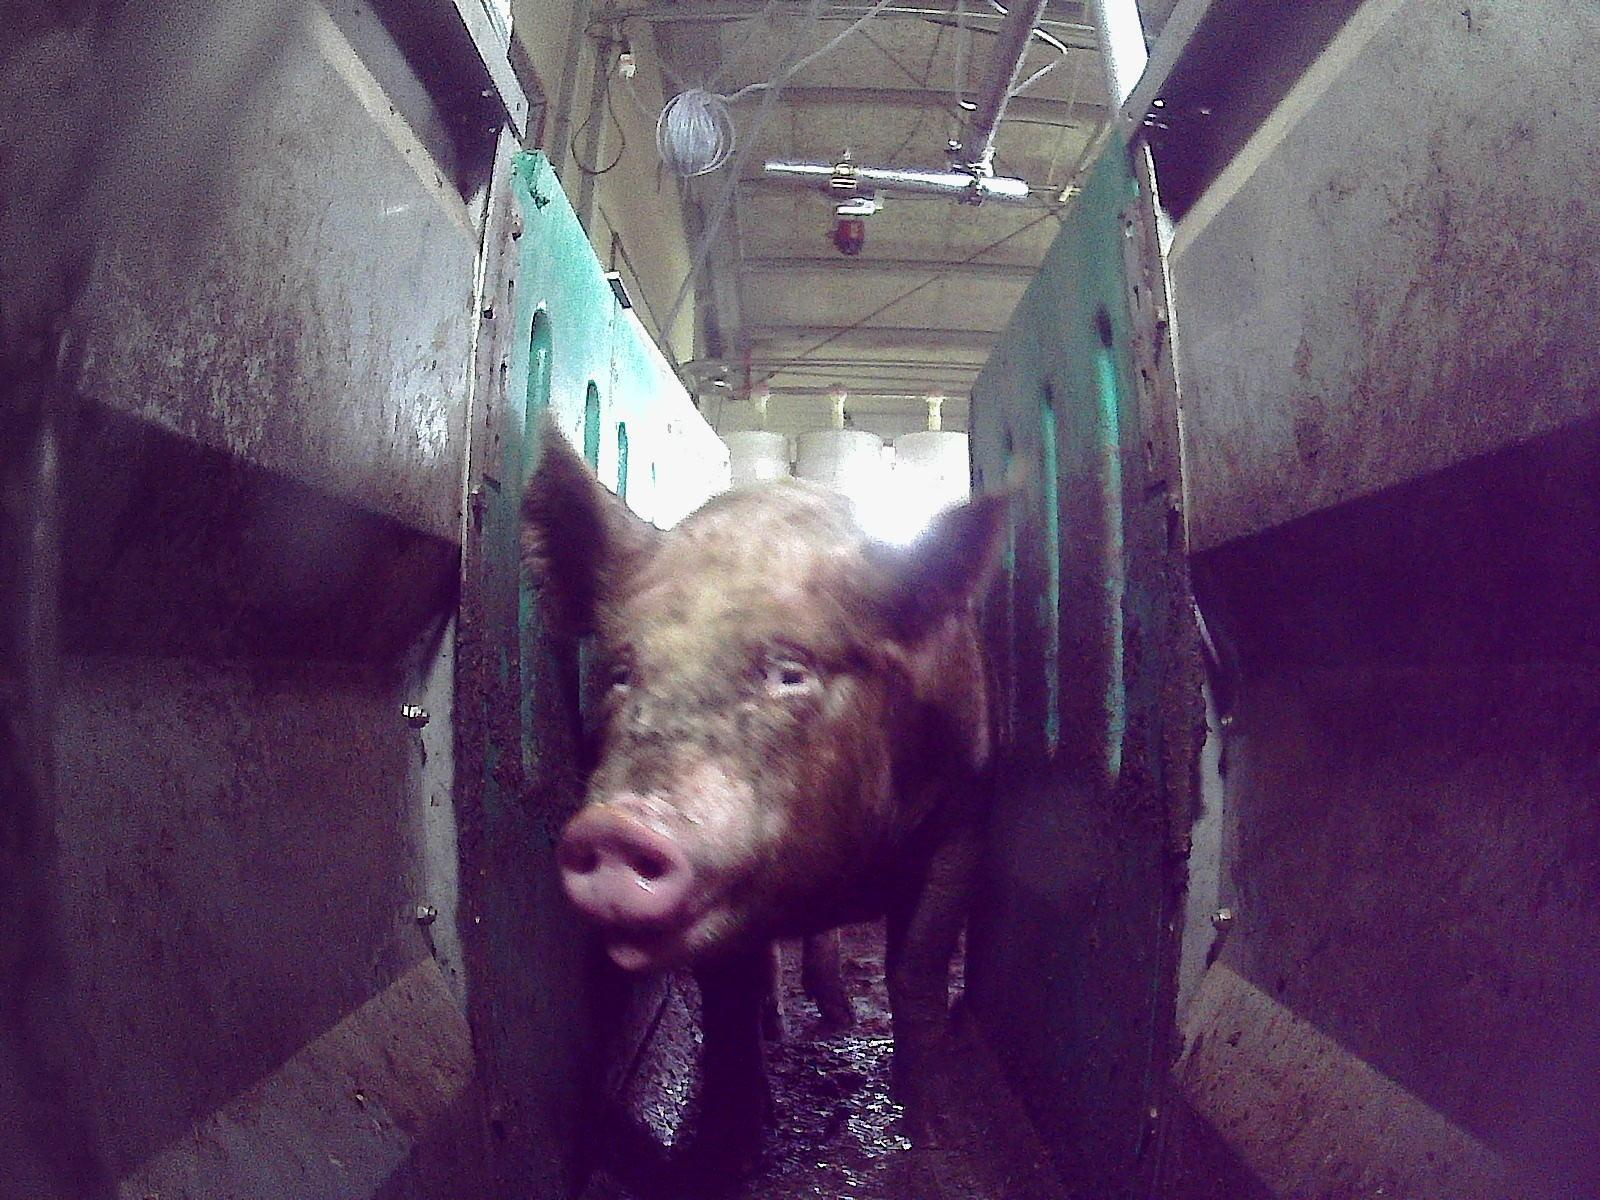Face: (553, 543, 881, 965)
